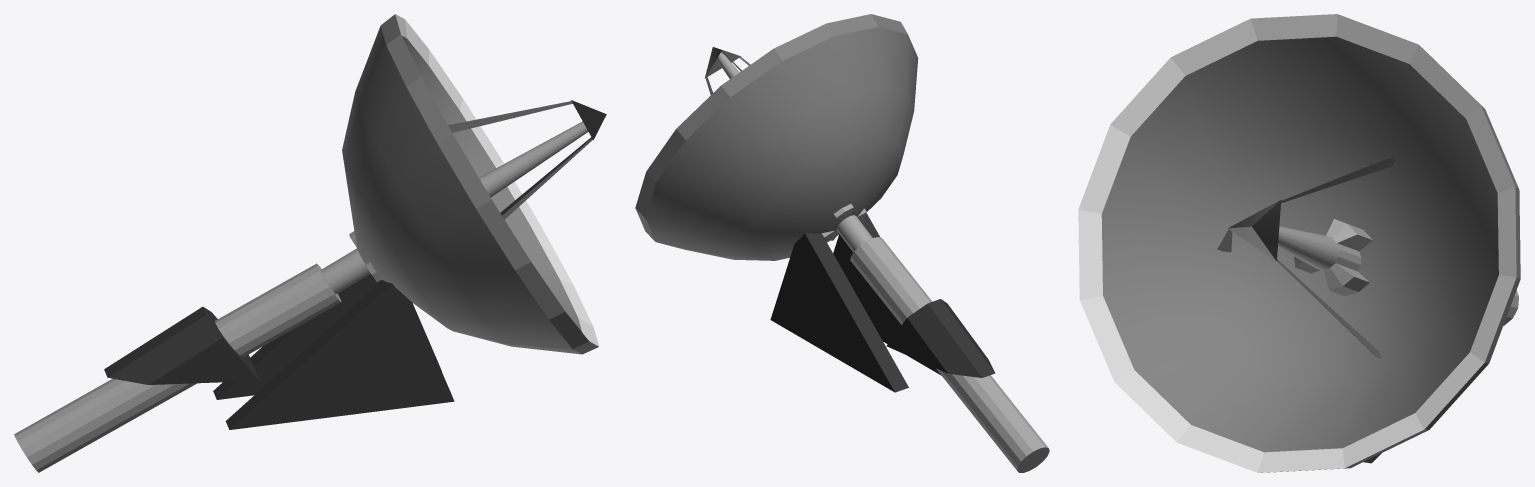
The model's file is SM_Arecibo.fbx.
The picture shows the model from 3 angles, left to right: view 1: azimuth 30°, elevation 25°; view 2: azimuth 150°, elevation 25°; view 3: azimuth 270°, elevation 25°; orthographic projection. The views are drawn at different scales.
Parts seen in each view (by area): view 1: GlobalTradeCenter; view 2: GlobalTradeCenter; view 3: GlobalTradeCenter.
Boxes of the visible parts, x1,y1,x2,y2 form: GlobalTradeCenter: (14,14,606,472); GlobalTradeCenter: (635,14,1049,472); GlobalTradeCenter: (1078,14,1520,472).
Bounding box in the file's own units: 23.86 × 18.75 × 15.4.
